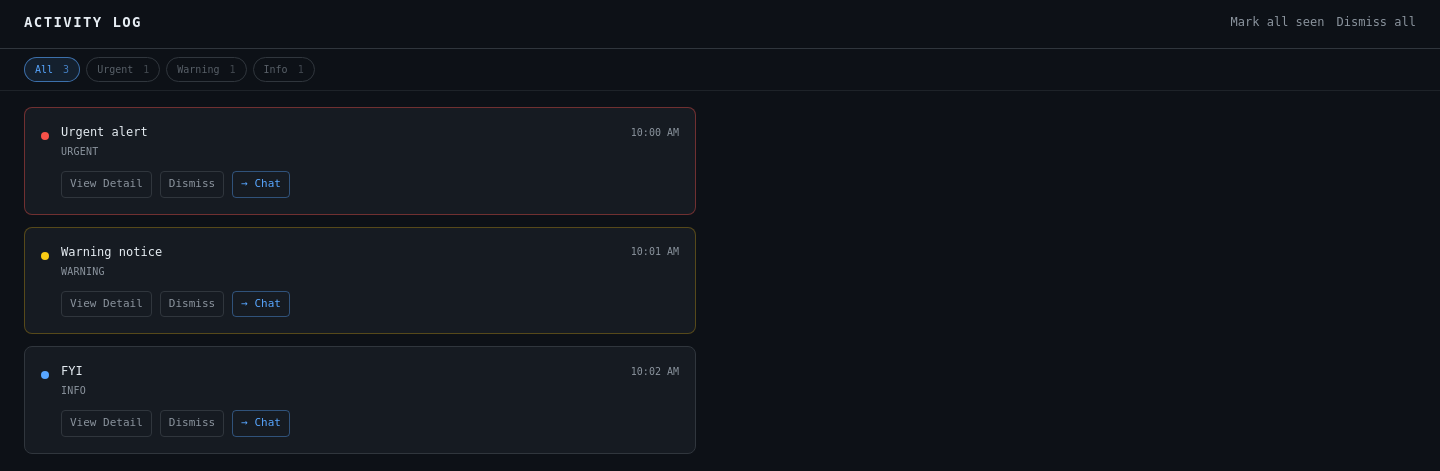
Test case: InboxView – severity filter chips › clicking Warning chip filters visible list to warning only
Click the button "Warning 1".
click(206, 70)  # box [166, 57, 246, 82]
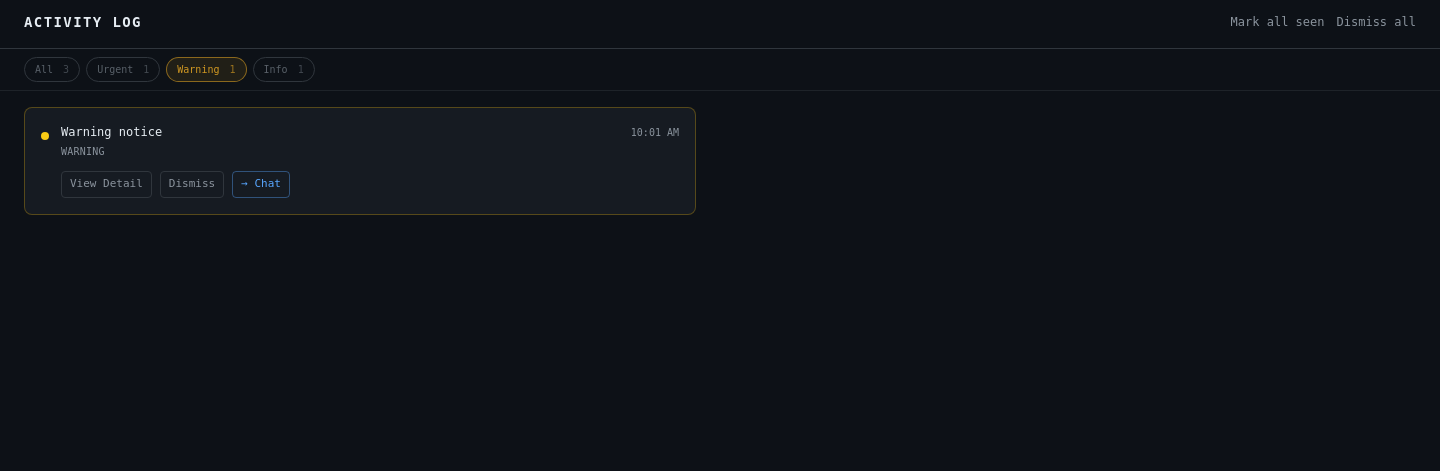
Result: the number of elements with test id "notification-item" is 1 at [24, 107, 696, 214]
